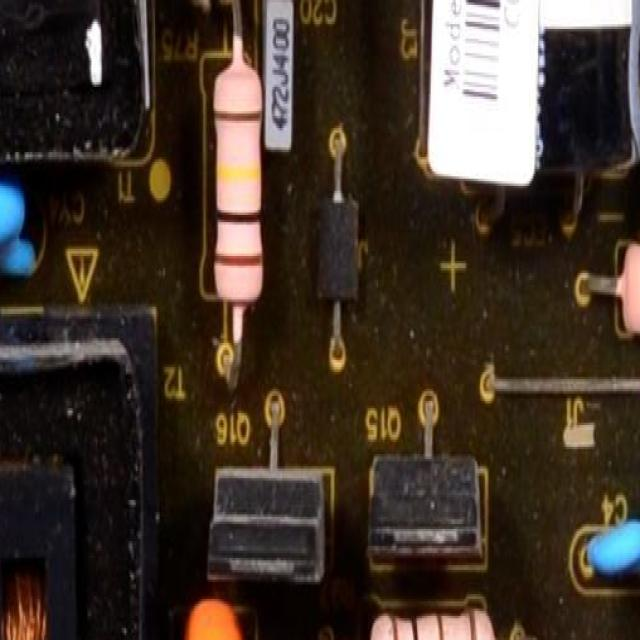capacitor: (256, 0, 297, 157), (164, 589, 257, 640), (0, 178, 33, 278)
connector: (572, 526, 640, 580)
resistor: (202, 26, 272, 332), (326, 618, 533, 640), (604, 251, 640, 335)
transistor: (427, 0, 640, 186), (205, 466, 334, 584), (367, 449, 486, 567)
